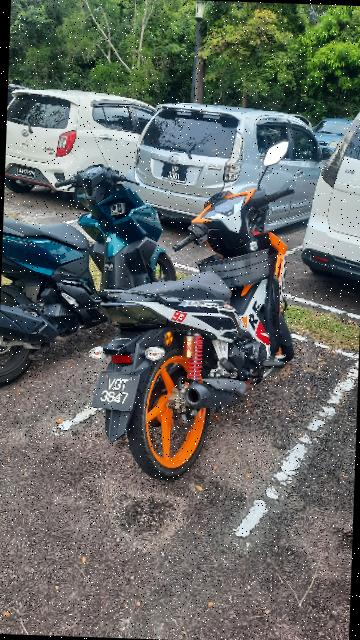License_Plate: (83, 371, 144, 417), (164, 157, 191, 185), (16, 164, 42, 182)
car: (129, 95, 336, 236), (5, 82, 171, 199)
motorcycle: (88, 130, 312, 484), (1, 159, 180, 391)
